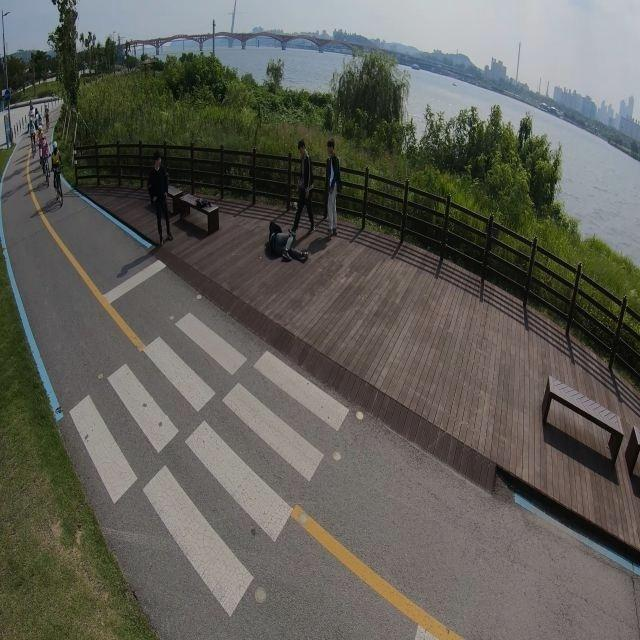non-fight: (146, 153, 173, 245), (291, 140, 315, 233), (322, 140, 341, 235)
